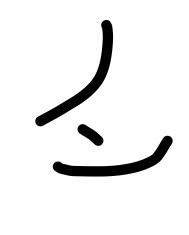b: (28, 16, 124, 131)
